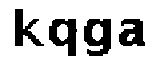a: (116, 15, 147, 48)
g: (81, 15, 113, 60)
k: (9, 6, 44, 50)
q: (46, 15, 78, 60)
